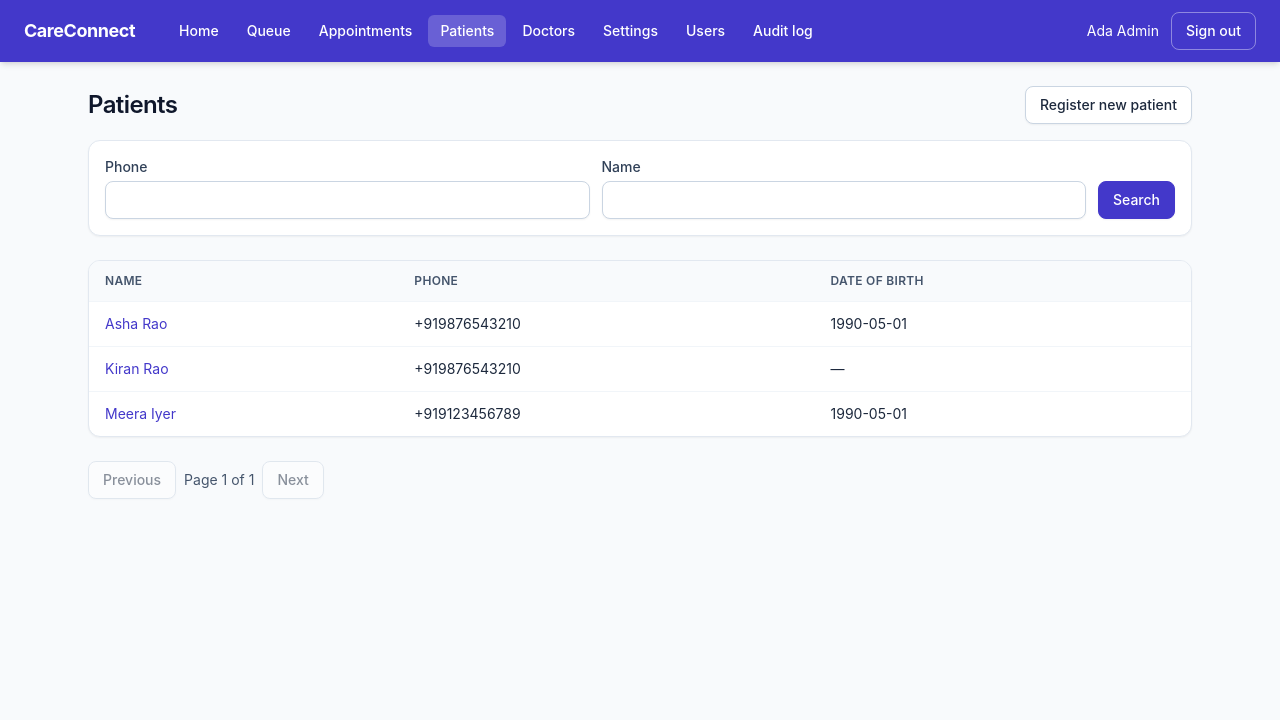
it: Patients page › shows the duplicate message inline
The width and height of the screenshot is (1280, 720).
Click the button "Register new patient": (1108, 105) [1025,86,1192,124]
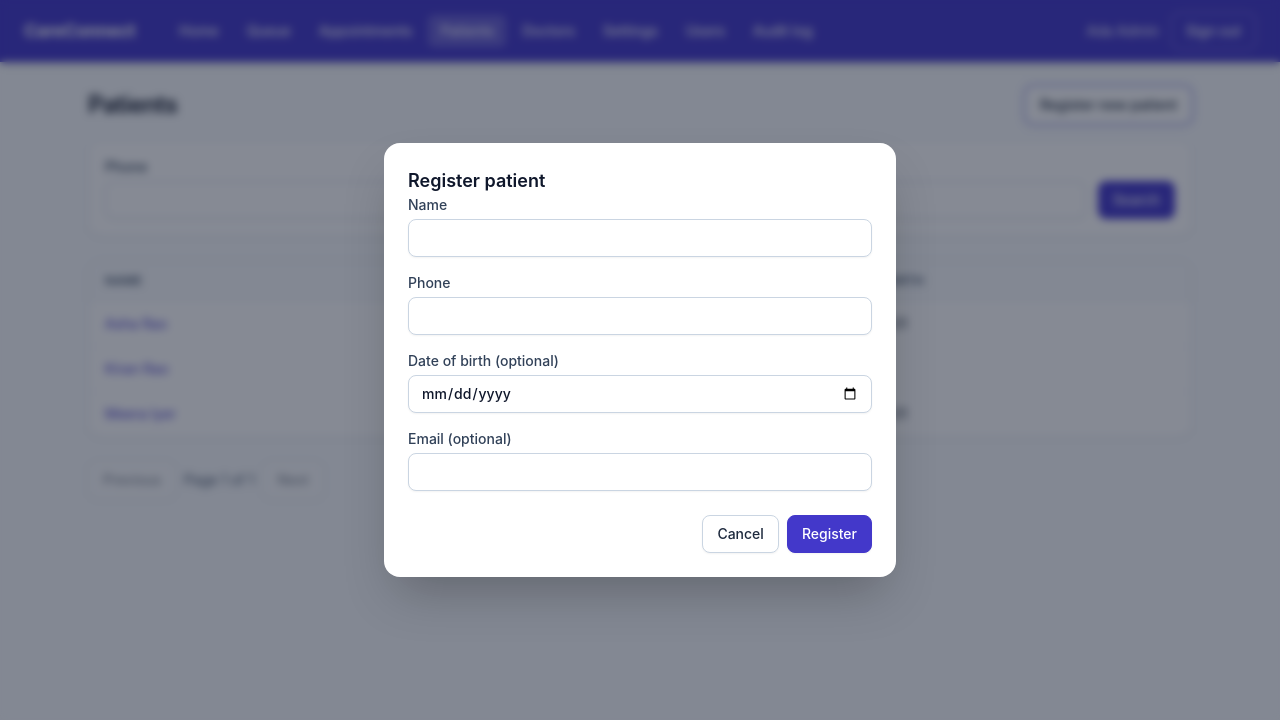
In the field labelled "Name": (640, 238) [408,219,872,257], type "asha rao"
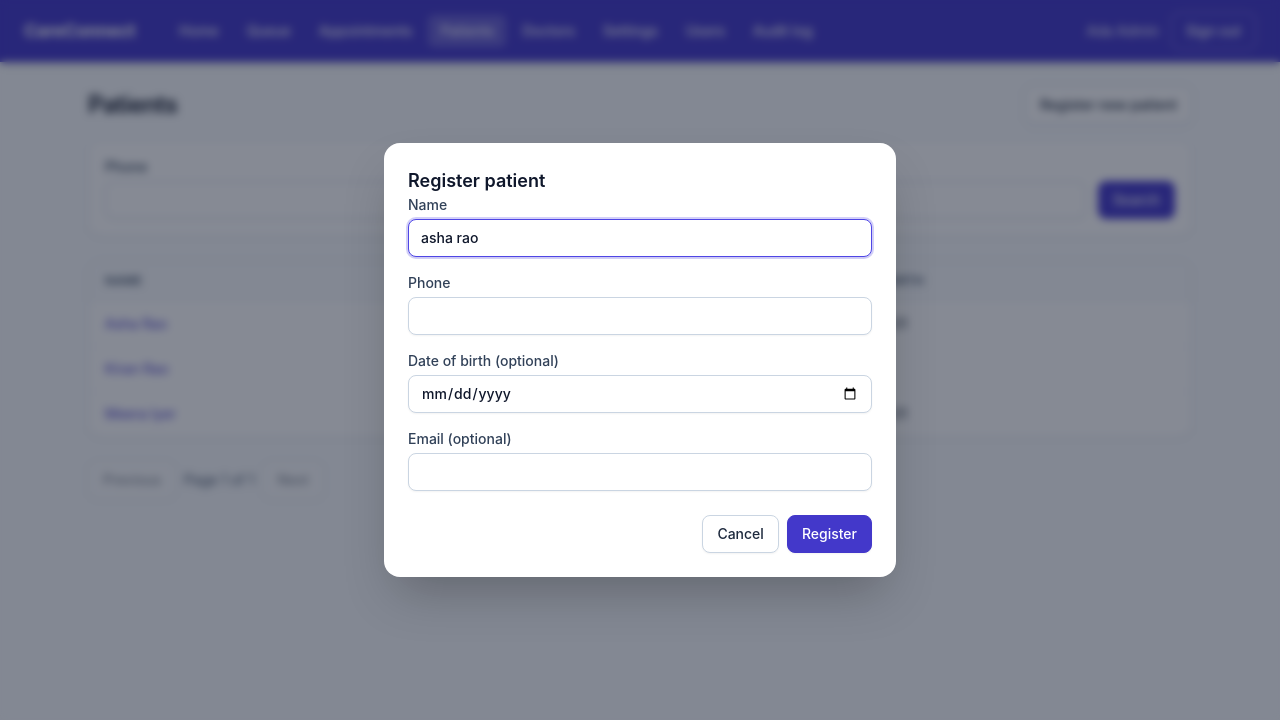
In the field labelled "Phone": (640, 316) [408,297,872,335], type "9876543210"
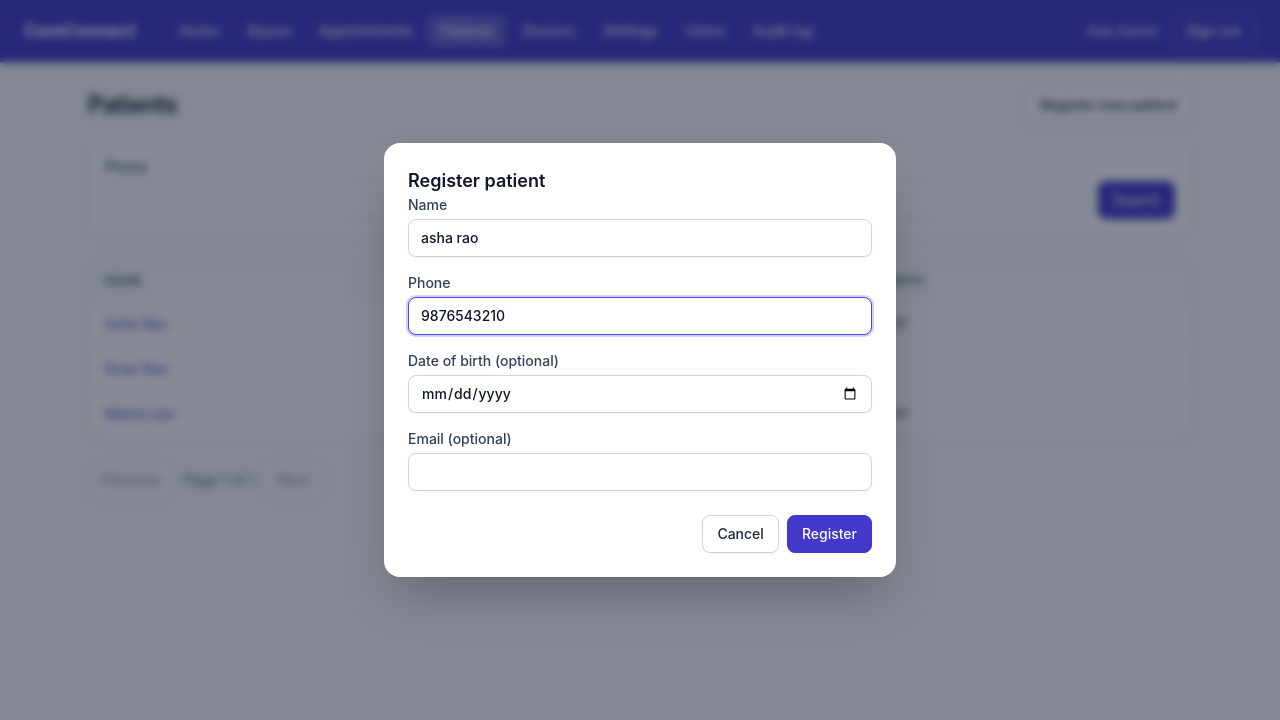
Click the button "Register": (829, 534) [787,515,872,553]
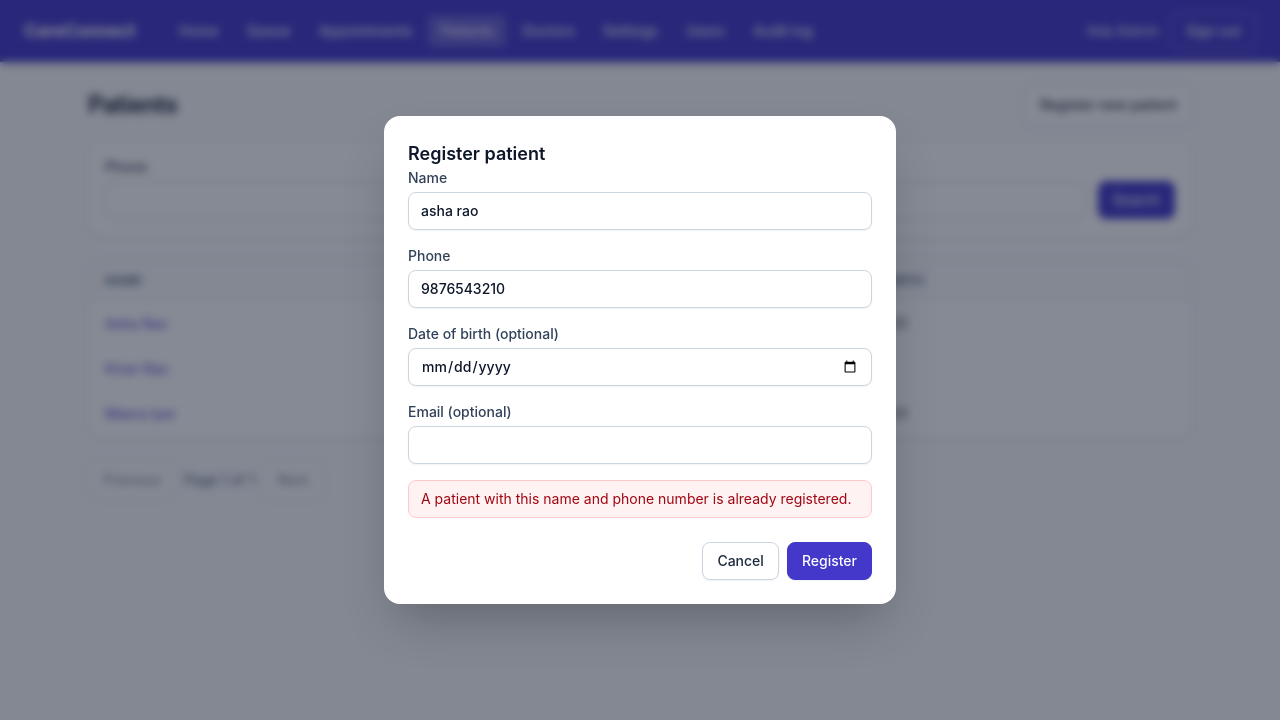
Now the dialog "Register patient" is shown, box [384,116,896,604]
Now the message reads "A patient with this name and phone number is already registered.", box [421,490,851,507]
